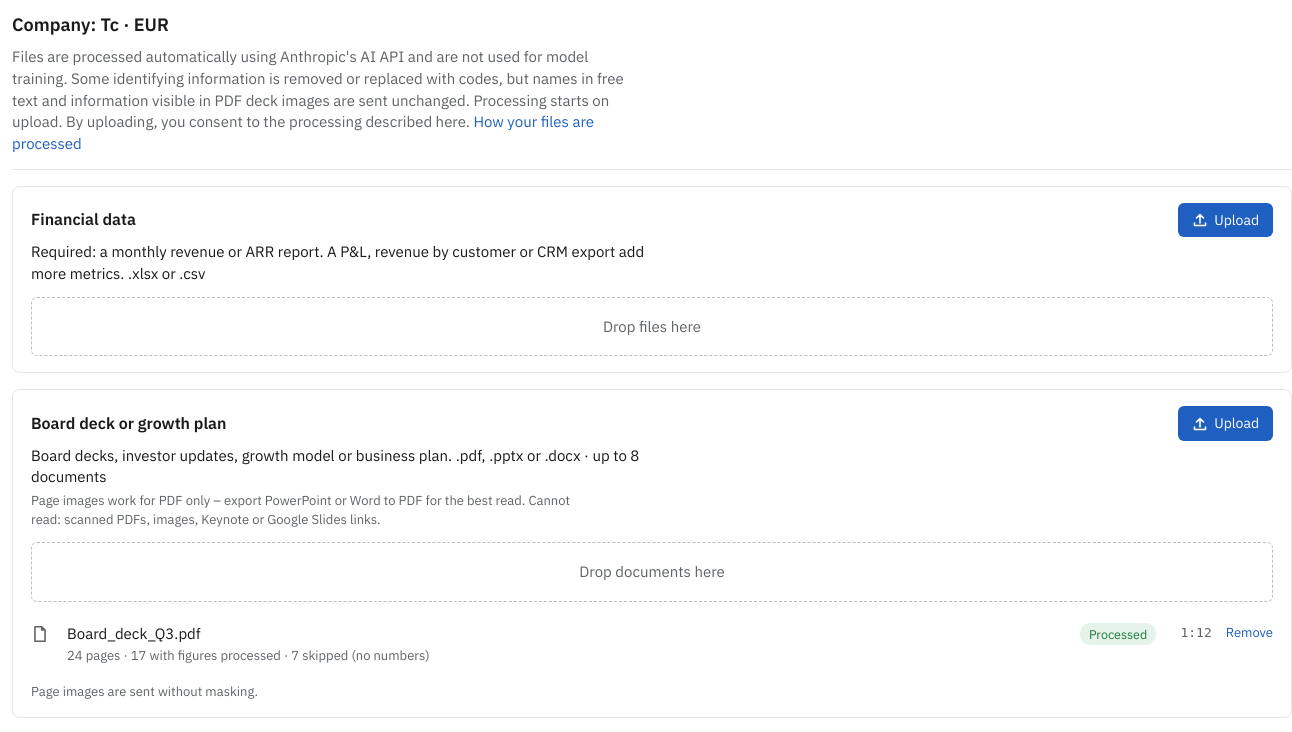
Test: one line per file, with its stage tag › Cancel in the confirmation of deck-file restores the link and removes nothing
Click the link with test id "file-remove" at (1249, 634), box [1226,624,1273,643]
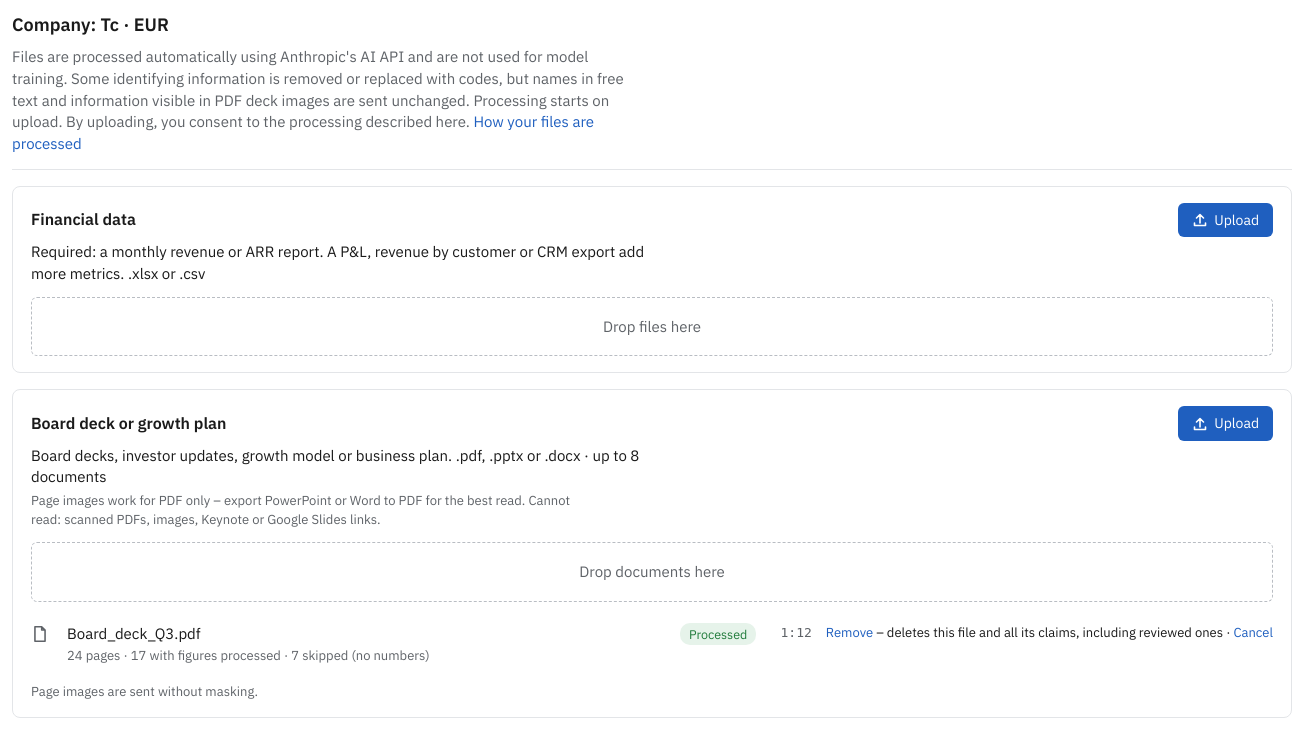
Click the link with test id "file-remove-cancel" at (1253, 633), box [1234,624,1273,641]
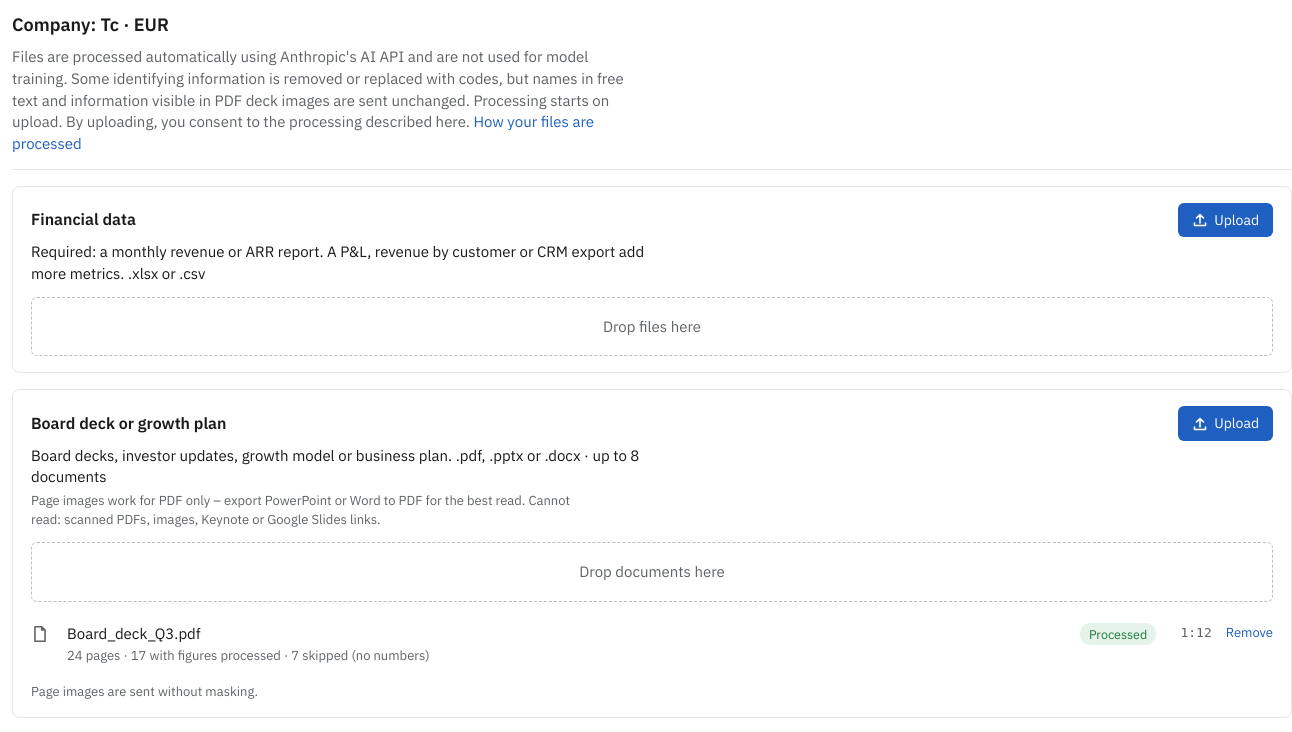
Expected: the link with test id "file-remove" reads "Remove", [1226,624,1273,643]
Now the element with test id "file-remove-confirm" is gone
